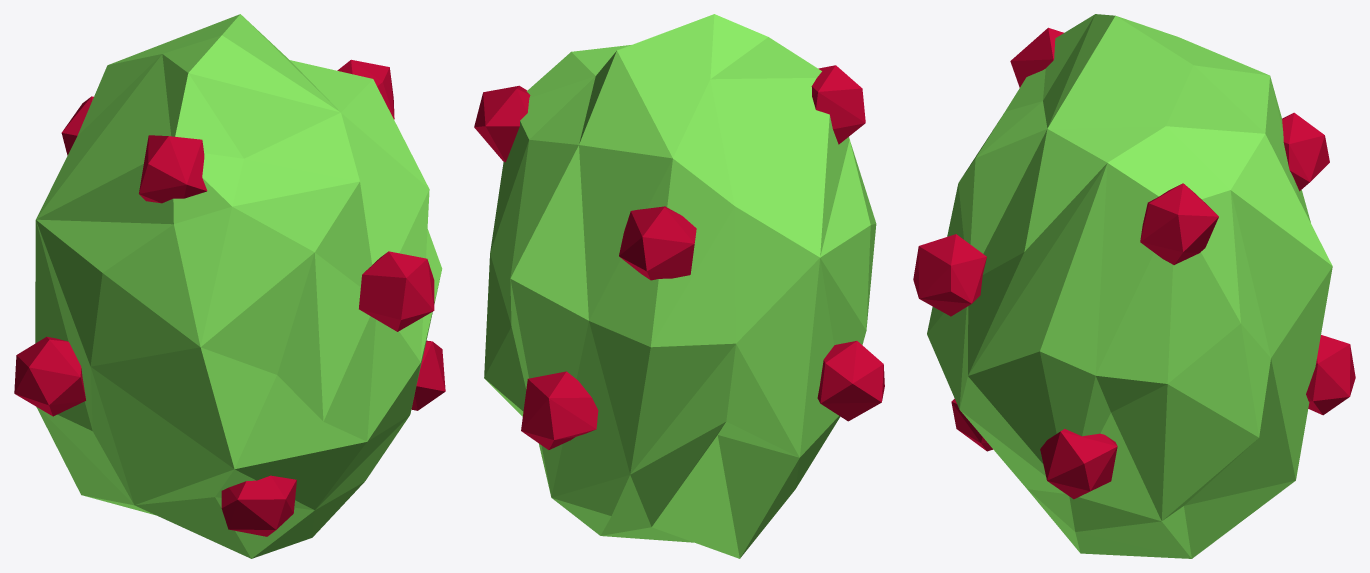
File: Sc_arbustoconFrutos_1.fbx
The picture shows the model from 3 angles, left to right: view 1: azimuth 30°, elevation 25°; view 2: azimuth 150°, elevation 25°; view 3: azimuth 270°, elevation 25°; orthographic projection.
Parts seen in each view (by area): view 1: Icosphere; view 2: Icosphere; view 3: Icosphere.
Boxes of the visible parts, x1=… form: Icosphere: x1=14, y1=14, x2=445, y2=558; Icosphere: x1=474, y1=14, x2=884, y2=558; Icosphere: x1=913, y1=14, x2=1355, y2=558.
Size of the model in its own units: 202 by 256 by 198.
